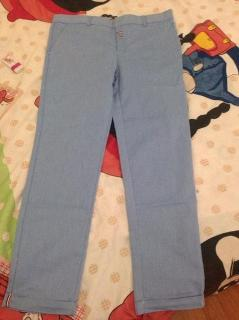trousers: (1, 9, 205, 316)
